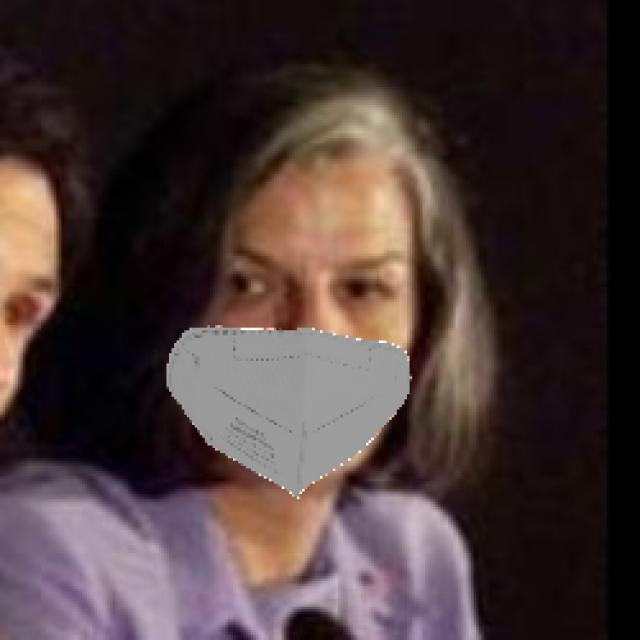mask: (156, 301, 424, 504)
